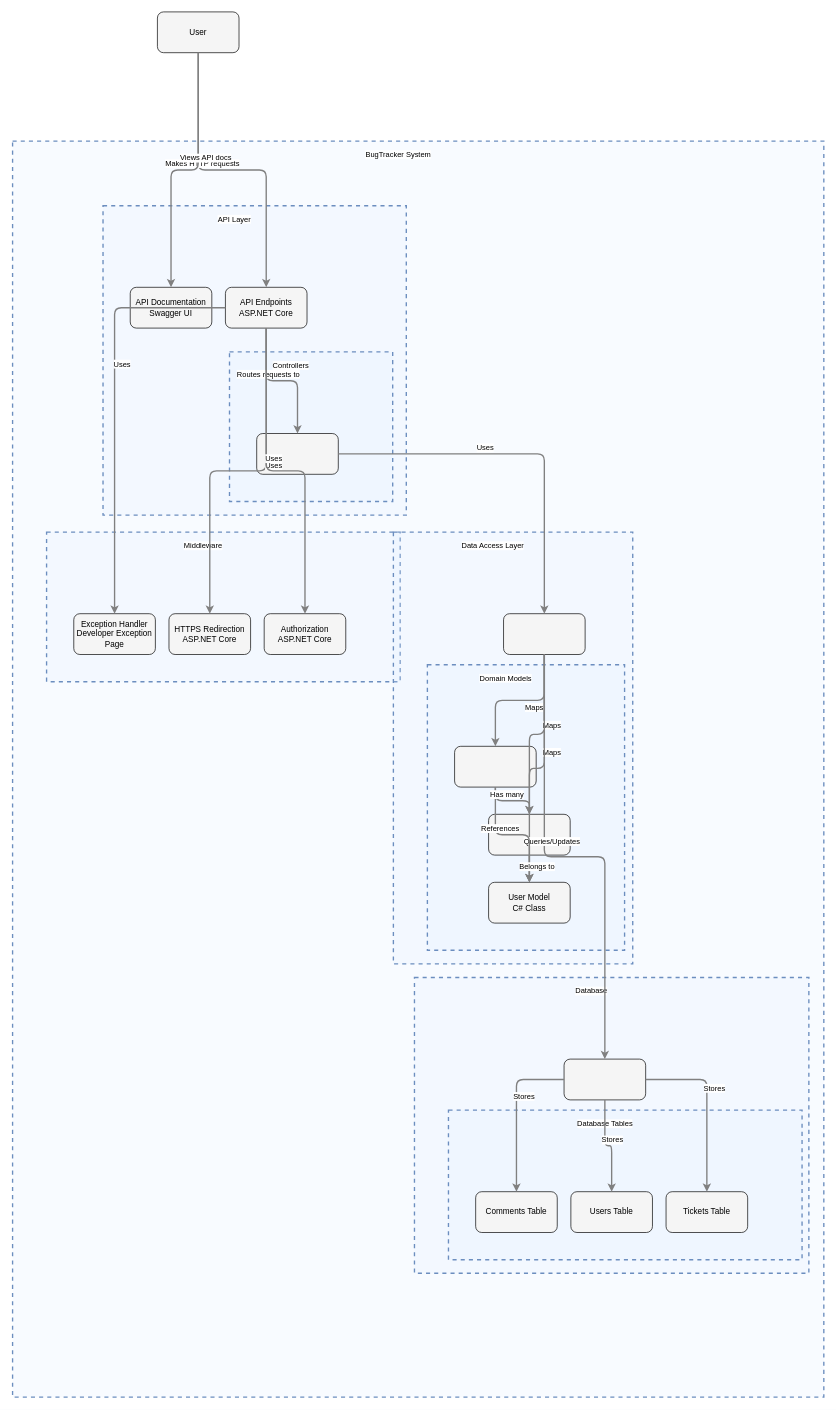
Image size: 836x1410. Some labels were removed from this diagram. The shapes that lost their labels are listed below. From the top down, each one's centre as x and y in pixels, then its label:
point 297,453: Tickets Controller ASP.NET MVC
point 544,633: Application DbContext Entity Framework Core
point 495,766: Ticket Model C# Class
point 529,834: Comment Model C# Class
point 604,1079: SQL Server Microsoft SQL Server
